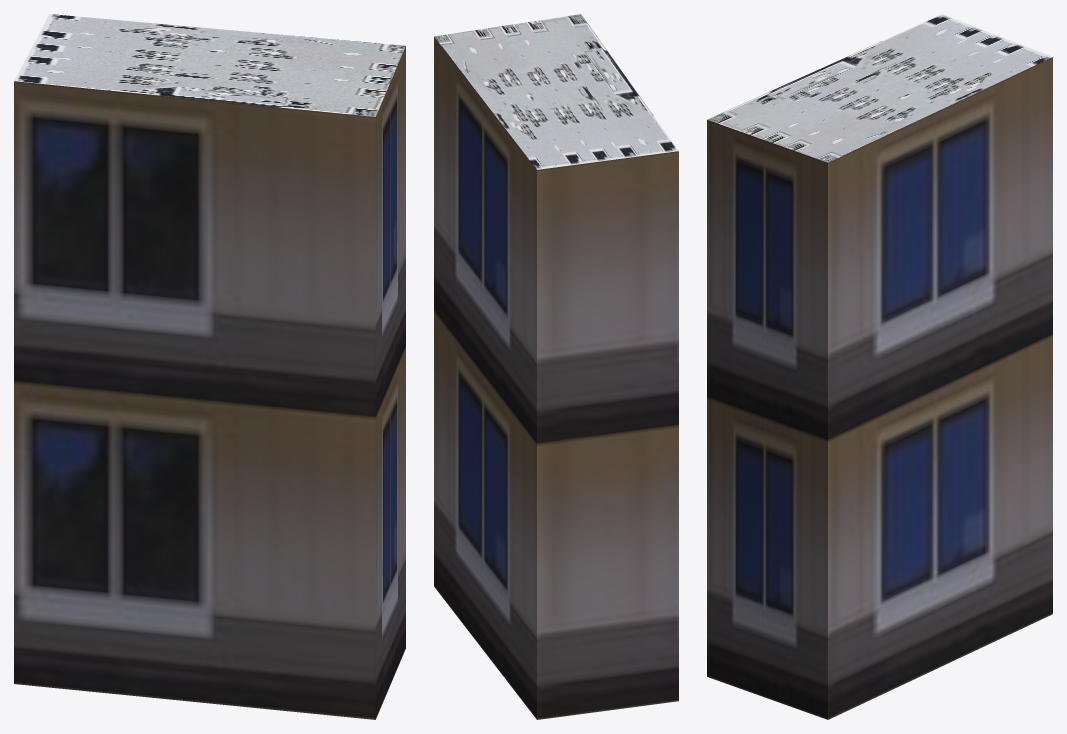
File: ResTex__2291.fbx
The picture shows the model from 3 angles, left to right: view 1: azimuth 30°, elevation 25°; view 2: azimuth 150°, elevation 25°; view 3: azimuth 270°, elevation 25°; orthographic projection. The views are drawn at different scales.
Visible parts, largest first — view 1: CityEngineMaterial_5_m, CityEngineMaterial_m; view 2: CityEngineMaterial_5_m, CityEngineMaterial_m; view 3: CityEngineMaterial_5_m, CityEngineMaterial_m.
Boxes of the visible parts, left/top/right/bottom form: CityEngineMaterial_5_m: left=14, top=46, right=405, bottom=719; CityEngineMaterial_m: left=14, top=14, right=405, bottom=116; CityEngineMaterial_5_m: left=434, top=37, right=678, bottom=719; CityEngineMaterial_m: left=434, top=14, right=678, bottom=169; CityEngineMaterial_5_m: left=707, top=57, right=1052, bottom=719; CityEngineMaterial_m: left=707, top=14, right=1052, bottom=162.
Bounding box in the file's own units: 3.44 × 6 × 3.38.
2 materials, 2 textured.
